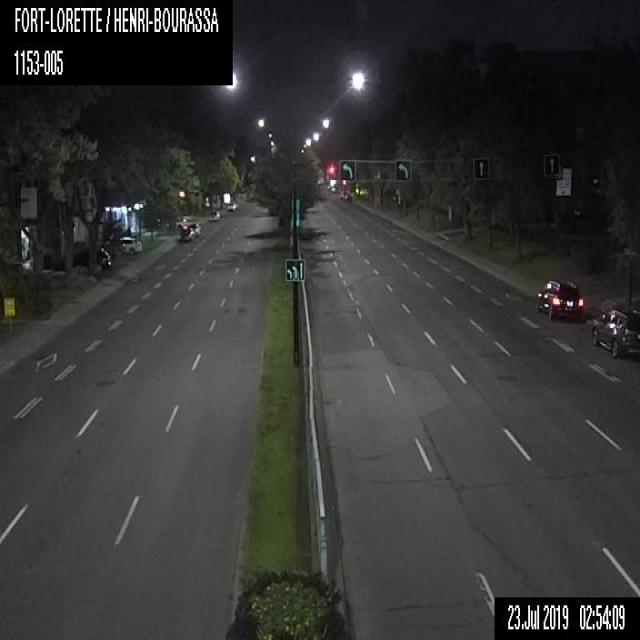vehicle: (592, 306, 639, 356), (536, 277, 581, 321), (57, 245, 111, 272), (113, 234, 141, 256), (165, 214, 188, 230), (179, 226, 195, 242), (188, 221, 202, 233), (208, 208, 219, 220), (341, 191, 351, 201), (225, 200, 235, 210), (339, 190, 346, 199), (330, 185, 336, 192)
